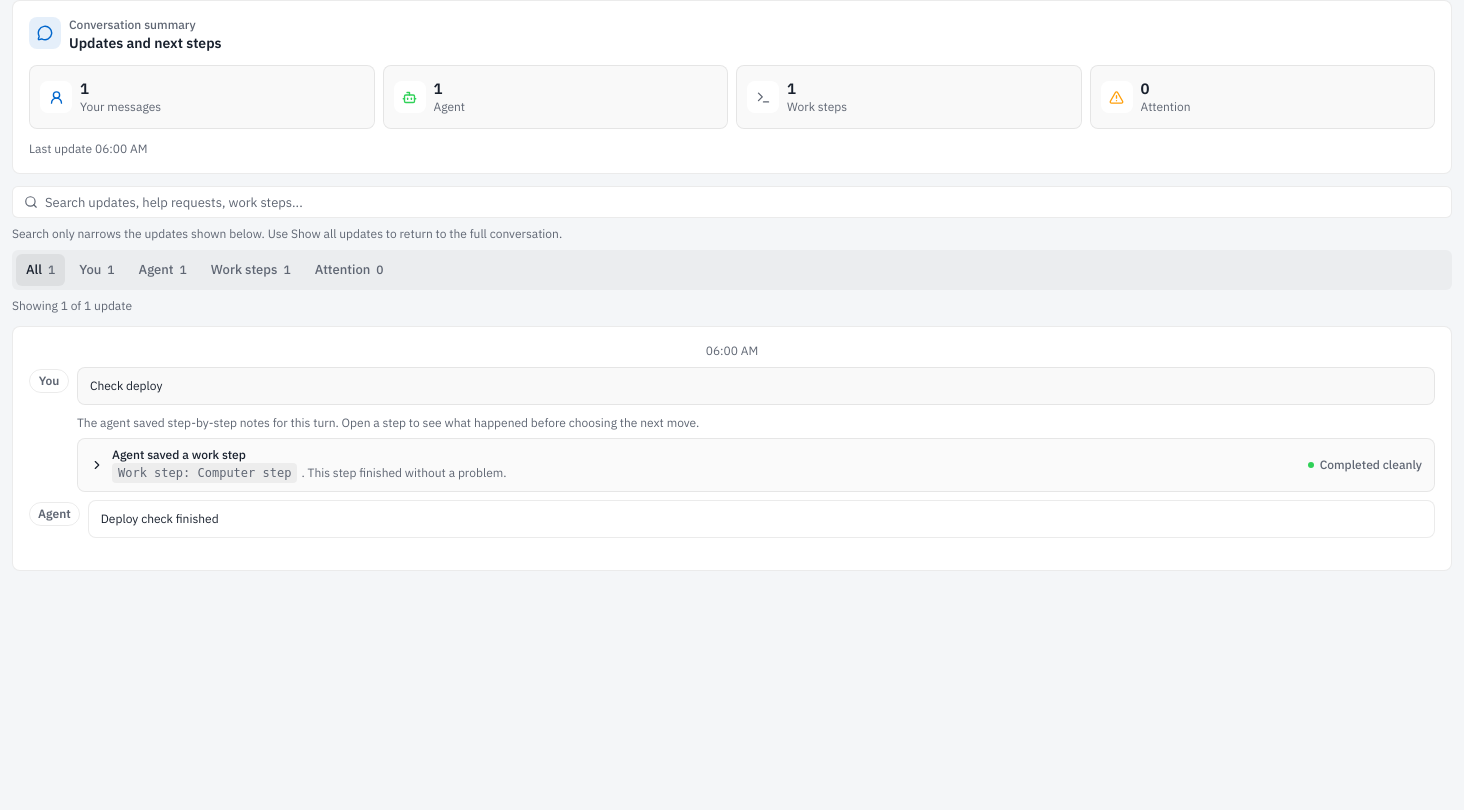
ChatView › searches managed workspace chat by safe work-step text only
Expected: the text "Deploy check finished" is shown, x1=88 y1=500 x2=1435 y2=538
Expected: the text "Agent saved a work step" is shown, x1=112 y1=447 x2=246 y2=462
Step 1. Type "secret-token-42" into the search field with test id "conversation-search" → (732, 202), box x1=12 y1=186 x2=1452 y2=218
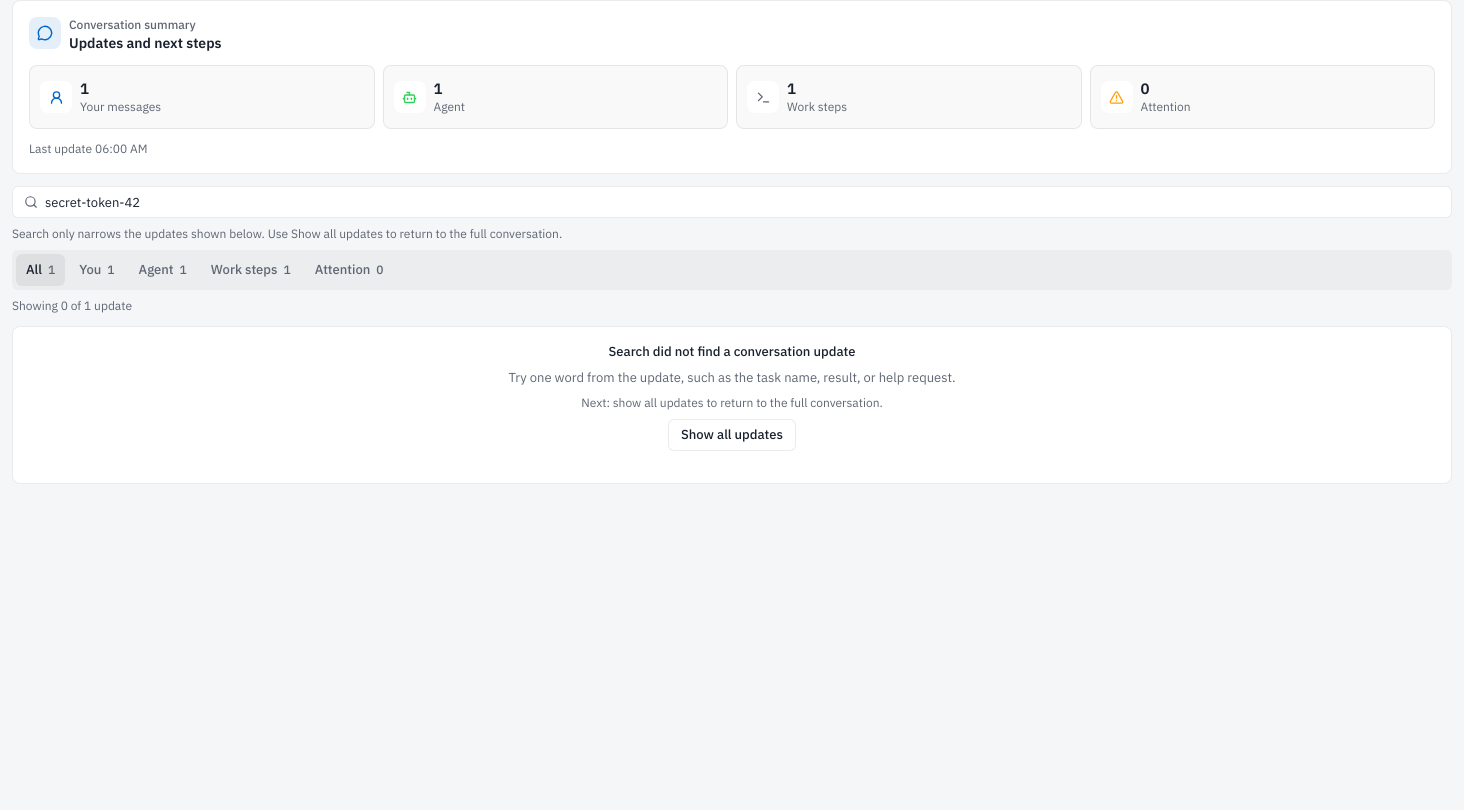
Expected: the text "Search did not find a conversation update" is shown, x1=609 y1=343 x2=856 y2=361
Expected: the text "Deploy check finished" is gone
